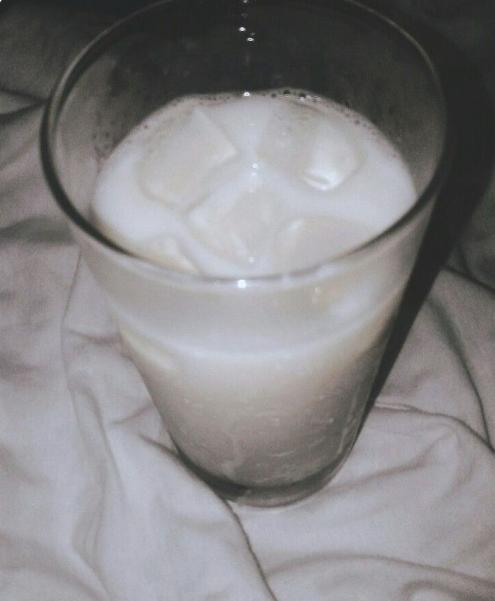produk_susu: (113, 22, 374, 482)
